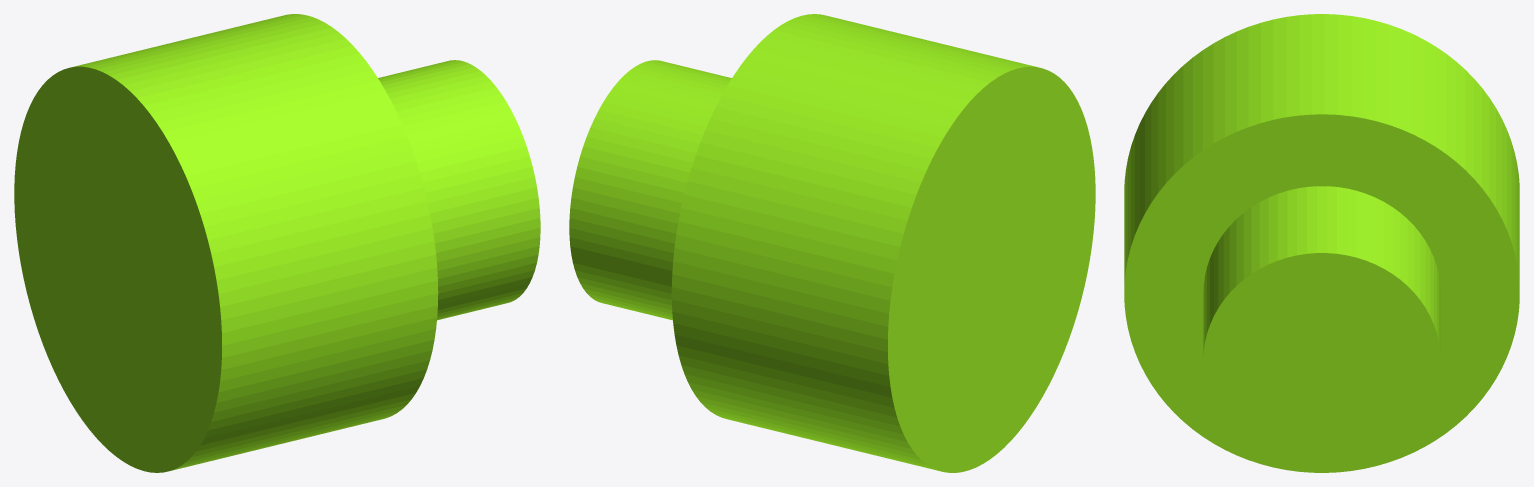
The picture shows the model from 3 angles, left to right: view 1: azimuth 30°, elevation 25°; view 2: azimuth 150°, elevation 25°; view 3: azimuth 270°, elevation 25°; orthographic projection. The views are drawn at different scales.
Size of the model in its own units: 50 by 49.99 by 49.99.
